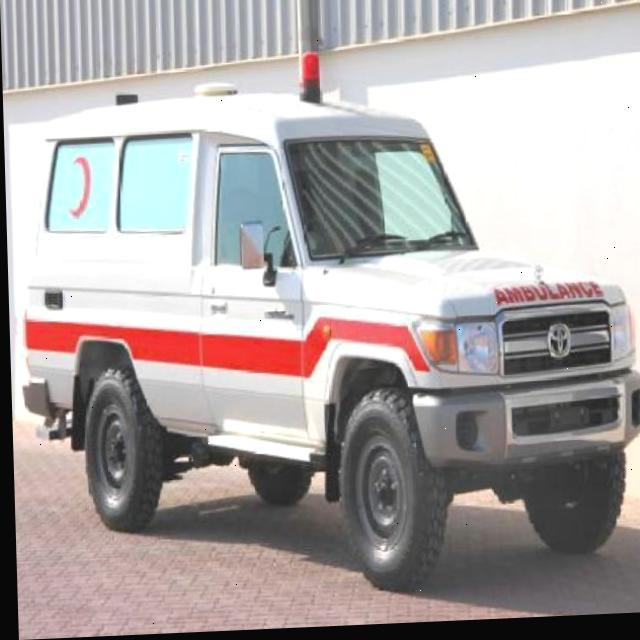emergency: (9, 42, 640, 609)
